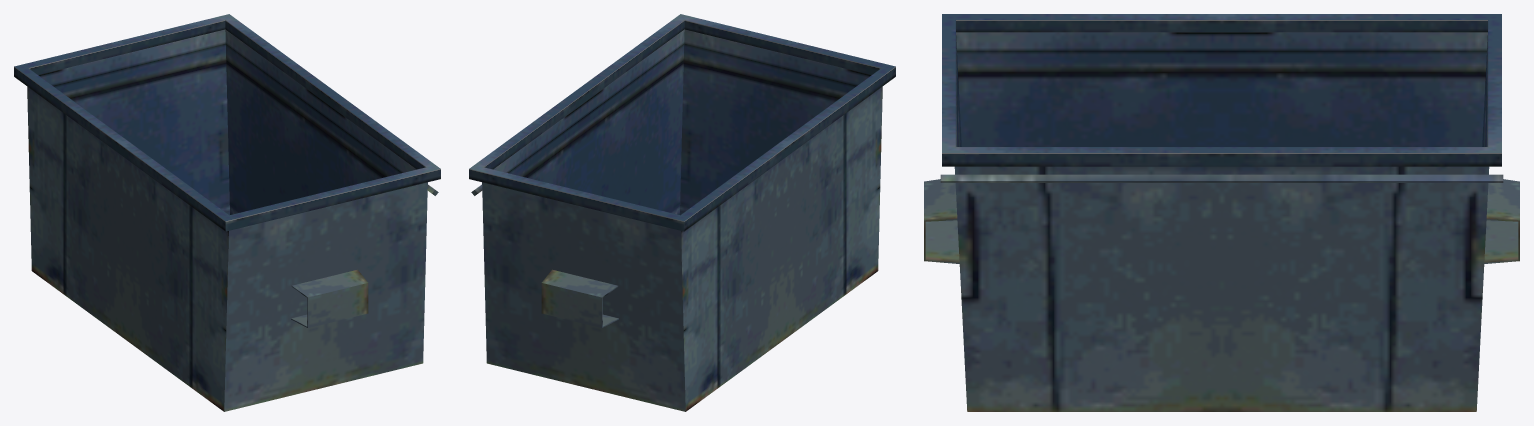
Rendered from Urban_DumpsterEmptyNoLidBlue_Model.fbx.
3 views of the same model, side by side, from view 1: azimuth 30°, elevation 25°; view 2: azimuth 150°, elevation 25°; view 3: azimuth 270°, elevation 25° (orthographic). The views are drawn at different scales.
Parts seen in each view (by area): view 1: Urban_DumpsterEmptyNoLidBlue_Mesh; view 2: Urban_DumpsterEmptyNoLidBlue_Mesh; view 3: Urban_DumpsterEmptyNoLidBlue_Mesh.
Boxes of the visible parts, x1,y1,x2,y2 form: Urban_DumpsterEmptyNoLidBlue_Mesh: [14, 14, 440, 411]; Urban_DumpsterEmptyNoLidBlue_Mesh: [469, 14, 895, 411]; Urban_DumpsterEmptyNoLidBlue_Mesh: [924, 14, 1519, 411].
Size of the model in its own units: 2.03 by 1.8 by 3.67.
